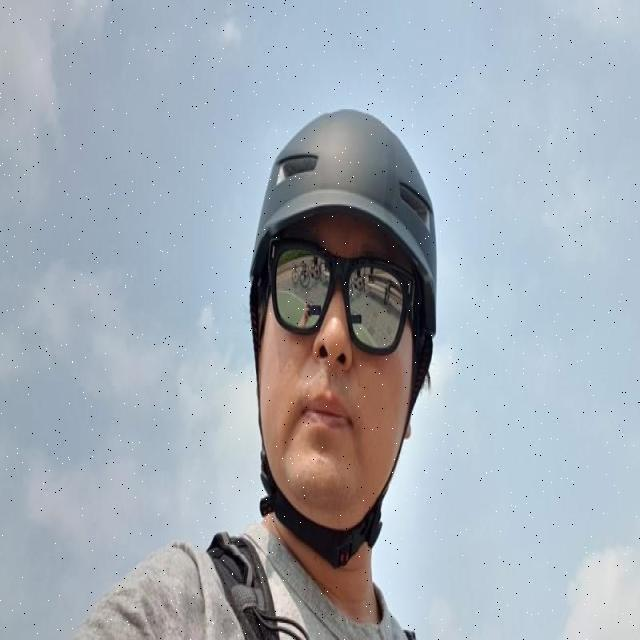helmet: (250, 110, 438, 564)
